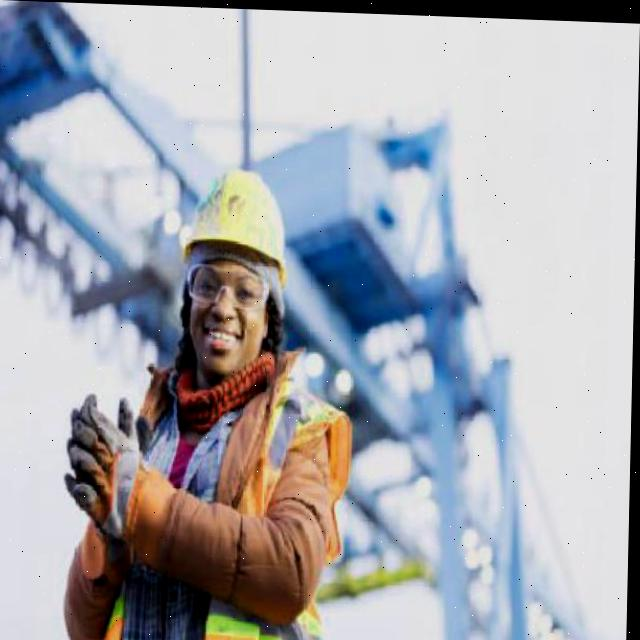Glass: (183, 270, 271, 302)
Gloves: (65, 391, 153, 539)
Helmet: (184, 154, 291, 274)
Safety-Vest: (83, 341, 357, 640)
